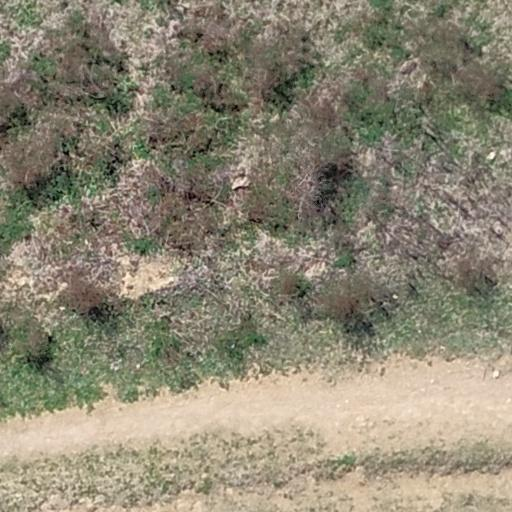stone: (487, 148, 499, 161), (232, 174, 246, 184), (491, 370, 501, 380)
